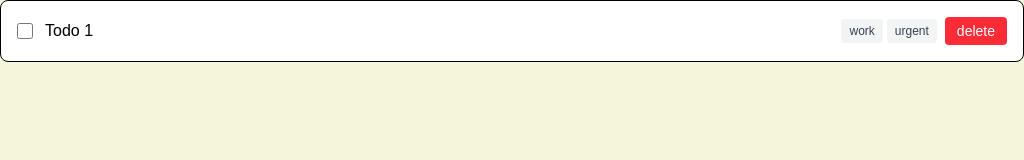
Test case: TodoList Component › shows "No description" when todo has no description
Click the text "Todo 1": (69, 30) left=45, top=22, right=93, bottom=39
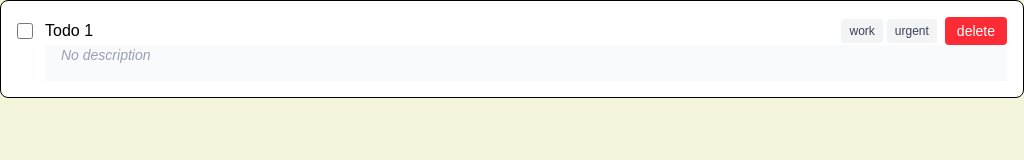
Now the text "No description" is shown, box left=61, top=47, right=150, bottom=63
